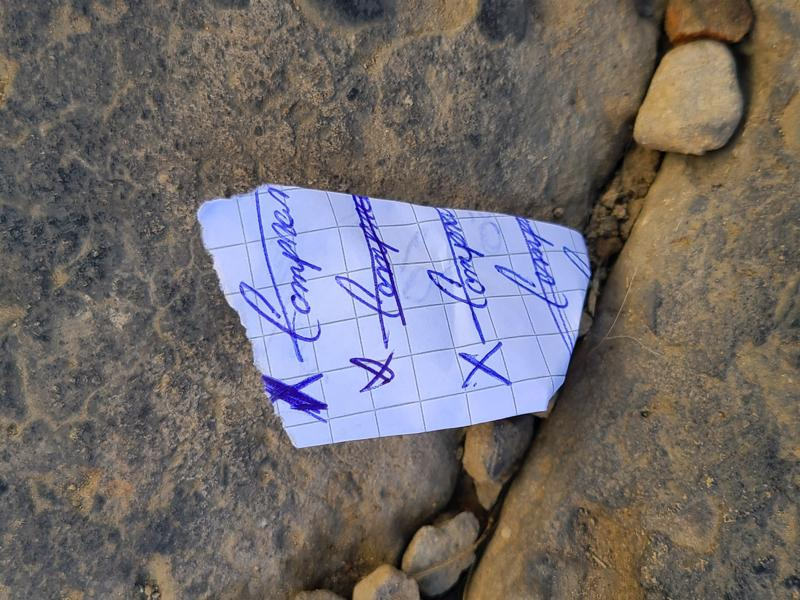papel: (194, 185, 593, 450)
